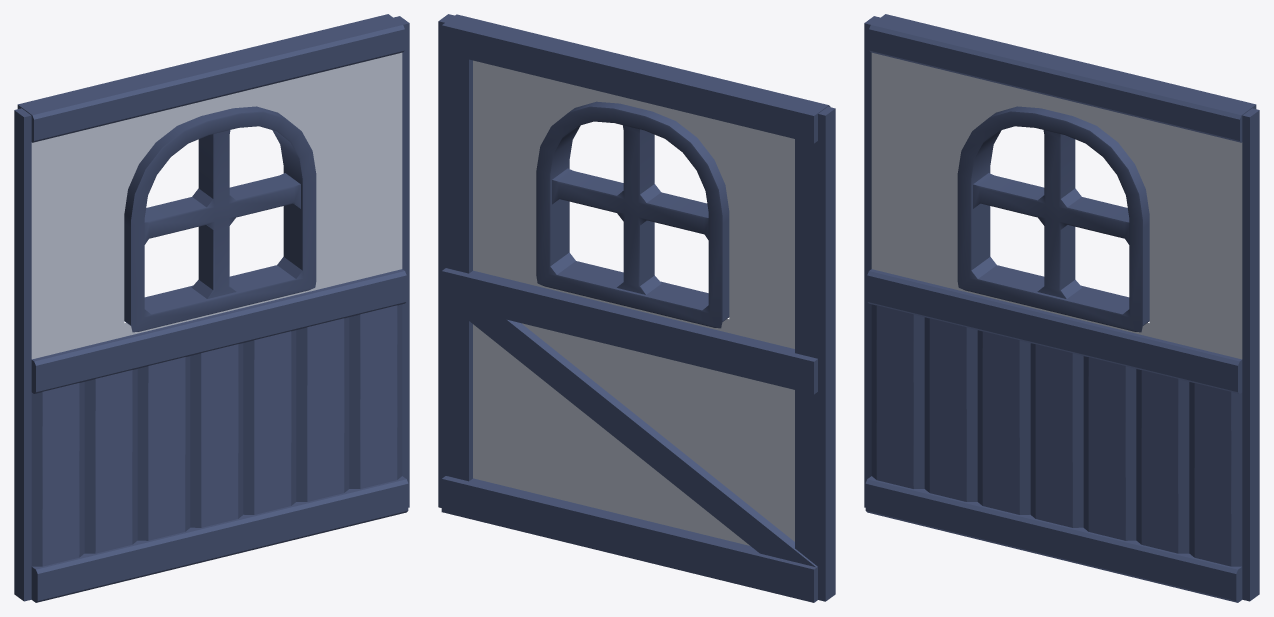
Rendered from wall_02.fbx.
3 renders of one model, left to right at view 1: azimuth 30°, elevation 25°; view 2: azimuth 150°, elevation 25°; view 3: azimuth 330°, elevation 25°, orthographic.
Visible parts, largest first — view 1: bottom_blue_wall_2, wall_white_2, window_wall_2, column_top_wall_2, botomm_column_2, colum_half_wall_2, column_lateral_wall_2; view 2: wall_white_2, column_lateral_wall_2, window_wall_2, column_top_wall_2, colum_half_wall_2, botomm_column_2, support_wall_2; view 3: bottom_blue_wall_2, wall_white_2, window_wall_2, column_top_wall_2, botomm_column_2, colum_half_wall_2, column_lateral_wall_2.
Boxes of the visible parts, left/top/right/bottom form: bottom_blue_wall_2: left=31, top=304, right=402, bottom=566; wall_white_2: left=31, top=52, right=402, bottom=359; window_wall_2: left=124, top=106, right=316, bottom=332; column_top_wall_2: left=17, top=14, right=404, bottom=142; botomm_column_2: left=31, top=476, right=408, bottom=602; colum_half_wall_2: left=31, top=269, right=406, bottom=393; column_lateral_wall_2: left=14, top=16, right=409, bottom=601; wall_white_2: left=473, top=60, right=794, bottom=545; column_lateral_wall_2: left=438, top=14, right=835, bottom=601; window_wall_2: left=536, top=101, right=729, bottom=328; column_top_wall_2: left=441, top=14, right=830, bottom=143; colum_half_wall_2: left=441, top=268, right=817, bottom=394; botomm_column_2: left=441, top=476, right=817, bottom=602; support_wall_2: left=451, top=306, right=816, bottom=566; bottom_blue_wall_2: left=871, top=304, right=1242, bottom=566; wall_white_2: left=871, top=52, right=1242, bottom=359; window_wall_2: left=957, top=106, right=1149, bottom=332; column_top_wall_2: left=869, top=14, right=1256, bottom=142; botomm_column_2: left=865, top=476, right=1242, bottom=602; colum_half_wall_2: left=867, top=269, right=1242, bottom=393; column_lateral_wall_2: left=864, top=16, right=1259, bottom=601.
Size of the model in its own units: 208 by 250 by 19.59.
1 material, 1 textured.
